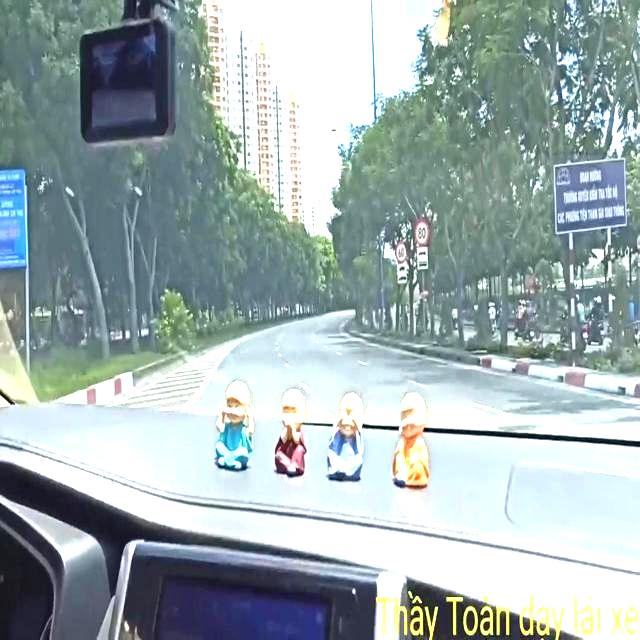Biển phụ: (396, 260, 408, 286), (416, 244, 429, 266)
Giới hạn tốc độ: 60Km/h: (392, 240, 410, 261)
Giới hạn tốc độ: 80Km/h: (412, 218, 433, 244)
Khác: (548, 155, 630, 233)
